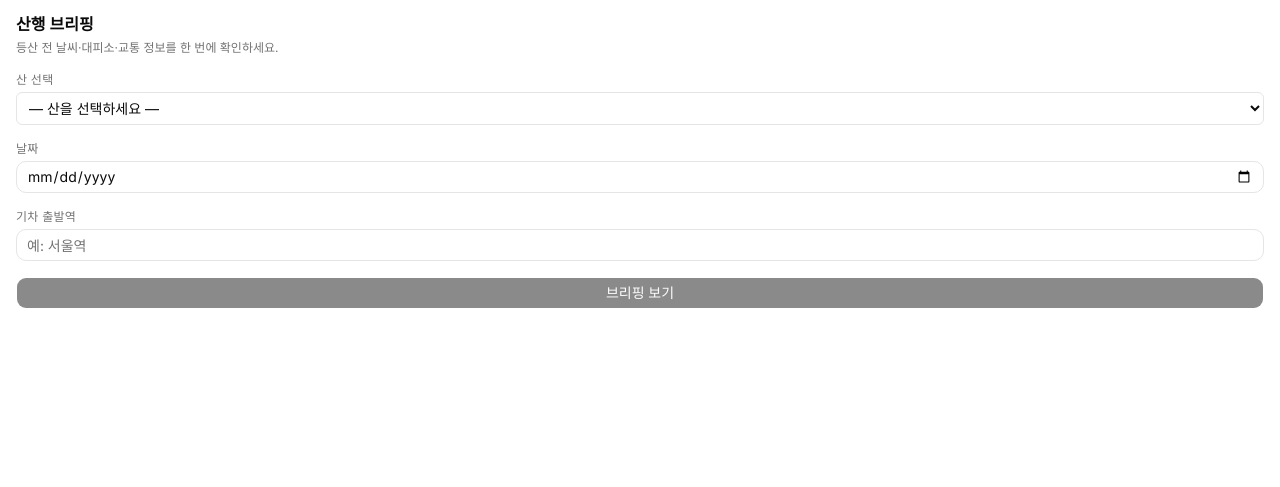
Scenario: SearchForm › 산 선택 → 추천 등산로 › 산을 선택하면 해당 산의 등산로 목록이 표시된다
Select "지리산" in the dropdown with test id "mountain-select". click: (640, 108)
box: [16,92,1264,125]
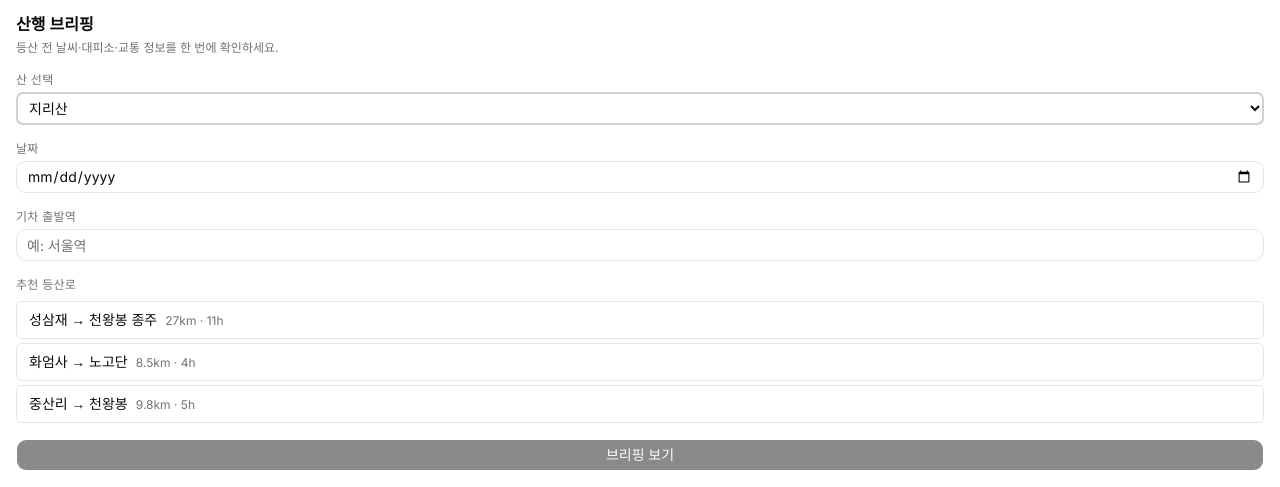
Now the text "성삼재 → 천왕봉 종주" is shown, box [29,311,157,328]
Now the text "화엄사 → 노고단" is shown, box [29,353,128,370]
